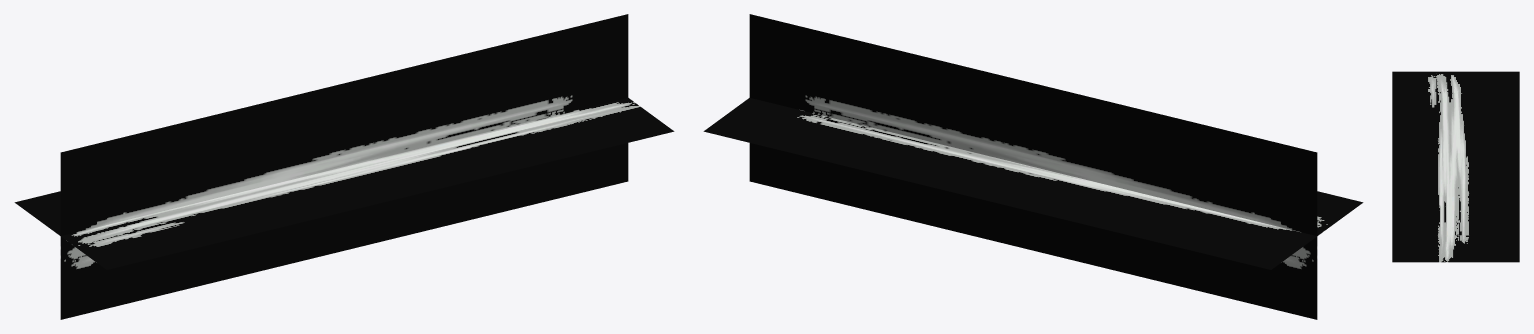
Rendered from hero_xiaoluoli_tuowei.FBX.
3 views of the same model, side by side, from view 1: azimuth 30°, elevation 25°; view 2: azimuth 150°, elevation 25°; view 3: azimuth 270°, elevation 25° (orthographic). The views are drawn at different scales.
Visible parts, largest first — view 1: Plane001; view 2: Plane001; view 3: Plane001.
Part boxes in pixels (<box>): Plane001: <box>14,14,674,319</box>; Plane001: <box>703,14,1363,319</box>; Plane001: <box>1392,71,1519,262</box>.
Bounding box in the file's own units: 49.12 × 13.84 × 13.84.
